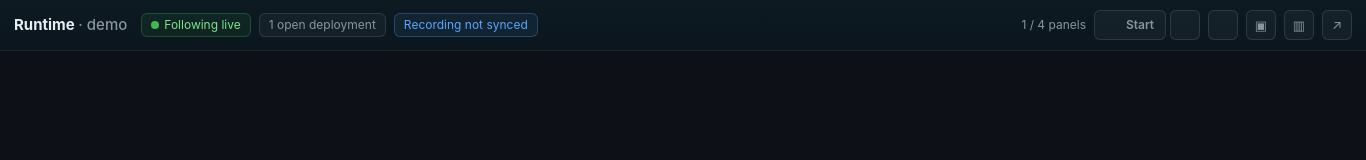
Test: RuntimeWorkbenchHeader › shows repair hint when debug browser is not configured
Click the button with test id "open-browser-debug": click(1223, 25) top-left (1208, 10), bottom-right (1238, 40)
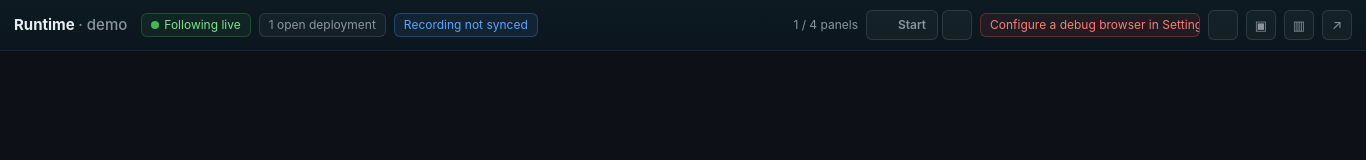
Now the text with test id "browser-debug-error" shows "Configure a debug browser", box top-left (990, 17), bottom-right (1208, 32)
